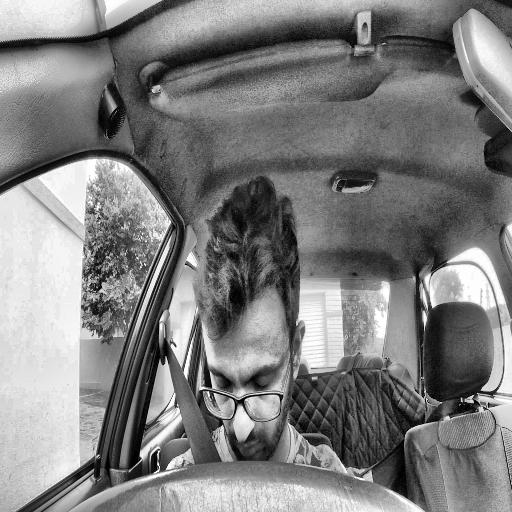drowsy: (191, 174, 306, 469)
